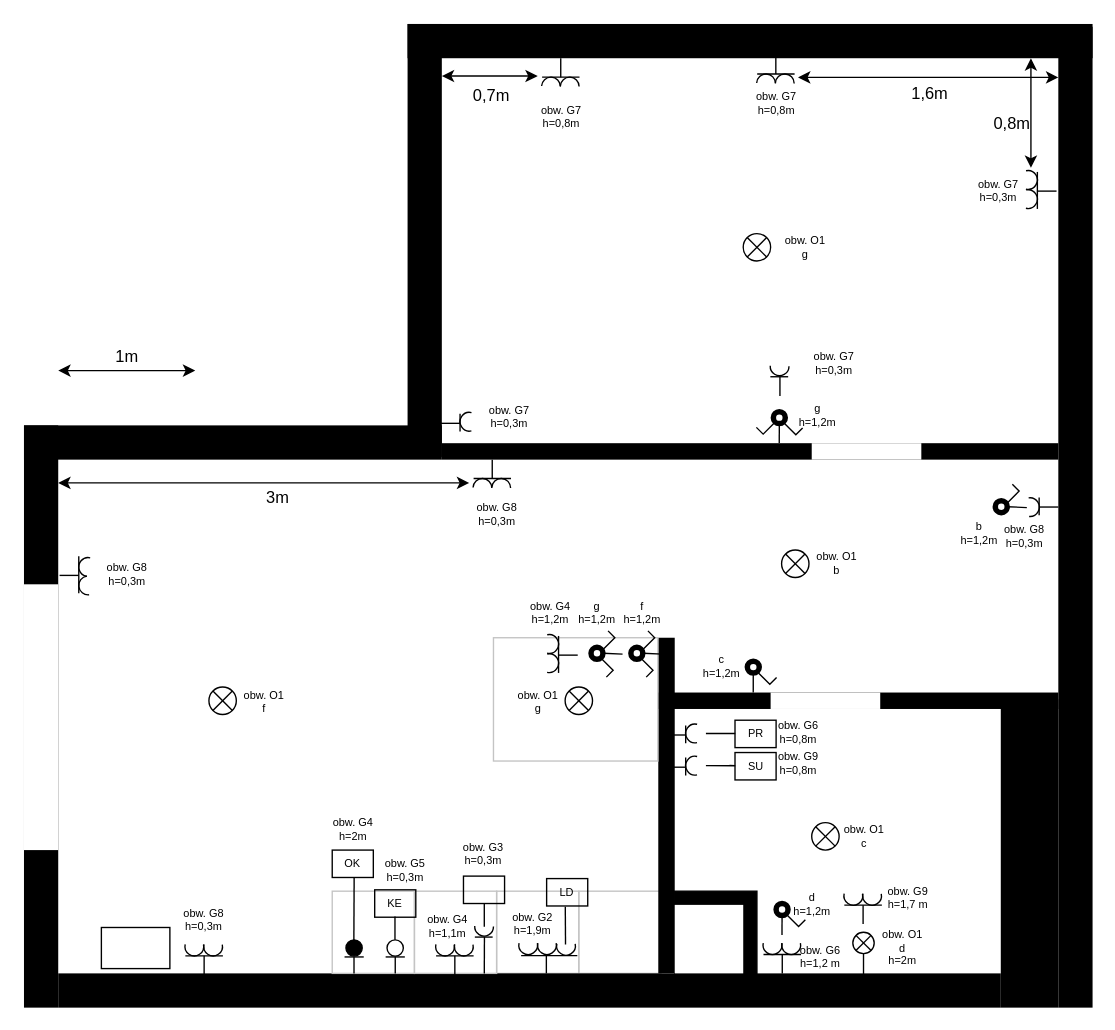
The diagram is 1115 pixels wide and 1030 high, and some of its shapes have lost their labels. Here are the shapes that lost their labels. From the top down, the box of each, then its label:
(462, 875, 505, 904): ZM
(100, 926, 170, 969): ZG1 h=0,3m
